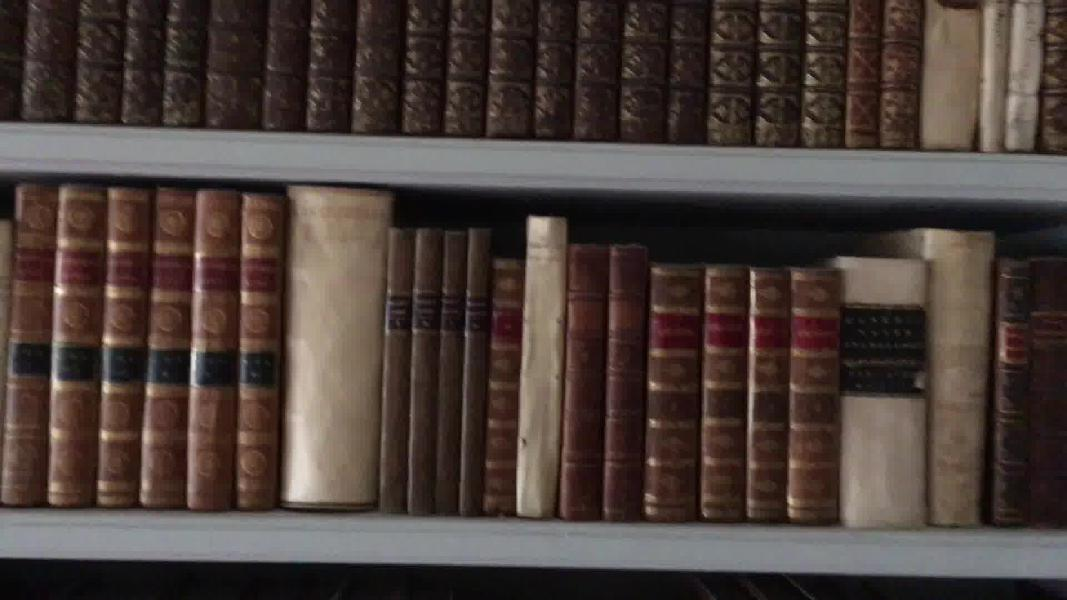Kk4-14: (287, 181, 381, 516)
Kk4-15_16: (383, 227, 440, 513)
Kk4-17_18: (440, 218, 488, 517)
Kk4-19: (484, 250, 522, 521)
Kk4-20: (519, 209, 565, 518)
Kk4-21_22: (563, 244, 645, 521)
Kk4-23_26: (646, 257, 840, 526)
Kk4-27: (840, 255, 933, 527)
Kk4-28: (924, 228, 991, 530)
Kk4-29: (995, 258, 1031, 532)
Kk4-8_13: (11, 182, 284, 508)
